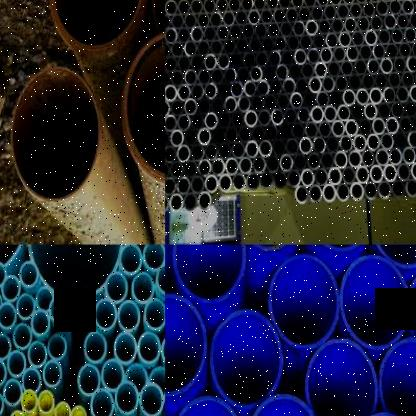pipe: (12, 67, 98, 202), (208, 310, 284, 407), (268, 253, 340, 349), (340, 254, 409, 350), (122, 30, 165, 181), (305, 339, 378, 416), (26, 245, 123, 301), (48, 0, 144, 50), (165, 293, 207, 398), (172, 245, 248, 303), (379, 336, 415, 416), (170, 394, 246, 416), (246, 394, 322, 416), (373, 245, 416, 268), (407, 264, 416, 359), (139, 381, 163, 416), (115, 380, 139, 415), (113, 333, 137, 365), (138, 332, 162, 364), (117, 299, 141, 331), (132, 272, 156, 303), (94, 298, 116, 331), (102, 358, 125, 389), (119, 244, 142, 274), (78, 364, 100, 395), (126, 363, 148, 394), (84, 332, 106, 363), (106, 272, 128, 302), (144, 299, 165, 329), (90, 389, 113, 416), (42, 360, 63, 387), (3, 378, 23, 406), (12, 322, 32, 350), (143, 245, 165, 270), (21, 367, 42, 393), (48, 296, 69, 322), (28, 341, 48, 368), (48, 333, 68, 360), (16, 293, 36, 320), (1, 275, 21, 302), (236, 245, 302, 253), (30, 310, 50, 336), (36, 286, 54, 312), (0, 302, 17, 329), (149, 366, 165, 394), (38, 390, 55, 414), (308, 244, 372, 250), (21, 390, 38, 412), (355, 164, 370, 186), (169, 192, 184, 214), (190, 174, 205, 196), (314, 166, 329, 188), (197, 158, 212, 179), (238, 155, 253, 176), (401, 145, 416, 166), (312, 135, 327, 156), (237, 124, 252, 145), (377, 179, 392, 200), (176, 176, 191, 197), (204, 173, 219, 194), (300, 167, 315, 188), (0, 332, 11, 360), (369, 164, 384, 184), (169, 160, 184, 180), (252, 155, 267, 175), (279, 153, 294, 173), (306, 152, 321, 172), (333, 150, 348, 170), (361, 148, 376, 168), (176, 144, 191, 164), (190, 143, 205, 163), (217, 141, 232, 161), (231, 140, 246, 160), (298, 136, 313, 156), (325, 134, 340, 154), (380, 132, 395, 152), (169, 128, 184, 148), (197, 127, 212, 147), (304, 120, 319, 140), (344, 118, 359, 138), (371, 116, 386, 136), (190, 112, 205, 132), (350, 102, 365, 122), (363, 102, 378, 122), (294, 184, 309, 204), (363, 181, 378, 201), (286, 168, 301, 188), (328, 166, 343, 186), (342, 165, 356, 186), (397, 162, 411, 183), (225, 156, 239, 177), (320, 150, 334, 171), (375, 147, 389, 168), (394, 130, 408, 151), (184, 127, 198, 148), (278, 121, 292, 142), (183, 192, 197, 213), (336, 182, 350, 203), (350, 181, 364, 202), (391, 178, 405, 199), (273, 170, 287, 191), (198, 190, 211, 212), (317, 120, 332, 139), (296, 106, 311, 125), (177, 83, 192, 102), (361, 72, 376, 91), (383, 163, 397, 183), (184, 160, 198, 180), (211, 157, 225, 177), (266, 154, 280, 174), (293, 152, 307, 172), (348, 150, 362, 170), (204, 142, 218, 162), (245, 140, 259, 160), (285, 137, 299, 157), (339, 134, 353, 154), (366, 132, 380, 152), (211, 126, 225, 146), (291, 121, 305, 141), (385, 116, 399, 136), (177, 113, 191, 133), (217, 110, 231, 130), (377, 101, 391, 121), (197, 96, 211, 116), (369, 86, 383, 106), (282, 76, 296, 96), (321, 74, 335, 94), (184, 68, 198, 88), (308, 184, 322, 204), (322, 183, 336, 203), (218, 173, 232, 193), (232, 172, 246, 192), (246, 172, 260, 192), (260, 170, 273, 191), (258, 140, 273, 158), (156, 263, 165, 293), (251, 125, 265, 144), (264, 123, 278, 142), (331, 119, 345, 138), (204, 111, 218, 130), (231, 110, 245, 129), (244, 109, 258, 128), (310, 105, 324, 124), (337, 103, 351, 122), (170, 98, 184, 117), (184, 97, 198, 116), (237, 94, 251, 113), (250, 94, 264, 113), (342, 88, 356, 107), (396, 85, 410, 104), (295, 76, 309, 95), (348, 73, 362, 92), (262, 63, 276, 82), (288, 62, 302, 81), (301, 61, 315, 80), (327, 60, 341, 79), (190, 53, 204, 72), (216, 52, 230, 71), (229, 51, 243, 70), (359, 43, 373, 62), (389, 146, 402, 166), (272, 138, 285, 158), (225, 126, 238, 146), (359, 117, 372, 137), (277, 92, 290, 112), (303, 90, 316, 110), (230, 80, 243, 100), (388, 70, 401, 90), (380, 56, 393, 76), (243, 50, 256, 70), (54, 400, 70, 416), (353, 134, 367, 152), (263, 94, 277, 112), (316, 90, 330, 108), (329, 90, 343, 108), (355, 88, 369, 106), (308, 76, 322, 94), (170, 70, 184, 88), (197, 68, 211, 86), (210, 68, 224, 86), (223, 67, 237, 85), (236, 66, 250, 84), (314, 61, 328, 79), (393, 56, 407, 74), (177, 54, 191, 72), (203, 53, 217, 71), (268, 50, 282, 68), (345, 44, 359, 62), (372, 42, 386, 60), (385, 42, 399, 60), (170, 40, 184, 58), (286, 34, 300, 52), (325, 32, 339, 50), (338, 30, 352, 48), (351, 30, 365, 48), (364, 29, 378, 47), (377, 28, 391, 46), (390, 27, 404, 45), (177, 26, 191, 44), (203, 25, 217, 43), (292, 20, 306, 38), (330, 16, 344, 34), (356, 15, 370, 33), (383, 13, 397, 31), (183, 12, 197, 30), (260, 7, 274, 25), (336, 2, 350, 20), (349, 2, 363, 20), (165, 176, 177, 197), (258, 108, 271, 127), (284, 107, 297, 126), (324, 105, 337, 124), (391, 100, 404, 119), (211, 96, 224, 115), (217, 81, 230, 100), (335, 74, 348, 93), (401, 70, 414, 89), (275, 63, 288, 82), (367, 57, 380, 76), (210, 38, 223, 57), (267, 21, 280, 40), (165, 144, 177, 164), (165, 54, 177, 74), (236, 36, 248, 56), (404, 177, 416, 197), (353, 59, 367, 76), (319, 47, 333, 64), (190, 26, 204, 43), (375, 0, 389, 17), (399, 116, 412, 134), (271, 108, 284, 126), (224, 96, 237, 114), (290, 92, 303, 110), (383, 86, 396, 104), (191, 83, 204, 101), (204, 82, 217, 100), (244, 80, 257, 98), (270, 78, 283, 96), (375, 72, 388, 90), (281, 48, 294, 66), (294, 48, 307, 66), (333, 45, 346, 63), (399, 41, 412, 59), (223, 38, 236, 56), (274, 35, 287, 53), (300, 34, 313, 52), (403, 26, 416, 44), (255, 22, 268, 40), (280, 20, 293, 38), (305, 18, 318, 36), (318, 18, 331, 36), (344, 16, 357, 34), (370, 14, 383, 32), (396, 12, 409, 30), (171, 12, 184, 30), (197, 12, 210, 30), (235, 10, 248, 28), (285, 6, 298, 24), (298, 5, 311, 23), (311, 4, 324, 22), (324, 4, 337, 22), (362, 0, 375, 18), (165, 114, 177, 133), (404, 99, 416, 118), (313, 32, 325, 51), (183, 40, 197, 56), (209, 12, 223, 28), (400, 0, 414, 16), (189, 0, 203, 16), (197, 39, 210, 56), (261, 36, 274, 53), (165, 84, 177, 102), (257, 80, 269, 98), (250, 64, 262, 82), (256, 50, 268, 68), (249, 36, 261, 54), (229, 24, 241, 42), (242, 22, 254, 40), (223, 10, 235, 28), (307, 48, 320, 64), (216, 25, 229, 41), (177, 0, 190, 16), (388, 0, 401, 16), (165, 27, 177, 44), (0, 357, 7, 386), (405, 55, 416, 73), (214, 0, 228, 14), (203, 0, 216, 15), (341, 60, 353, 76), (248, 9, 260, 25), (273, 8, 285, 24), (165, 0, 177, 16), (70, 404, 86, 416), (407, 129, 416, 149), (240, 0, 253, 13), (228, 0, 240, 14), (0, 261, 6, 288), (408, 84, 416, 103), (409, 161, 416, 182), (408, 11, 416, 29), (252, 0, 265, 11), (265, 0, 279, 10), (278, 0, 291, 10), (290, 0, 303, 9), (8, 409, 24, 416), (303, 0, 316, 8), (0, 390, 4, 416), (315, 0, 329, 7), (411, 40, 416, 58), (165, 193, 169, 214), (165, 161, 169, 181), (412, 114, 416, 134), (328, 0, 341, 6), (166, 99, 170, 118), (165, 130, 169, 148), (166, 70, 170, 88), (166, 40, 170, 58), (166, 12, 170, 30), (341, 0, 354, 5), (354, 0, 368, 4), (367, 0, 380, 3), (380, 0, 393, 2), (393, 0, 407, 1)
